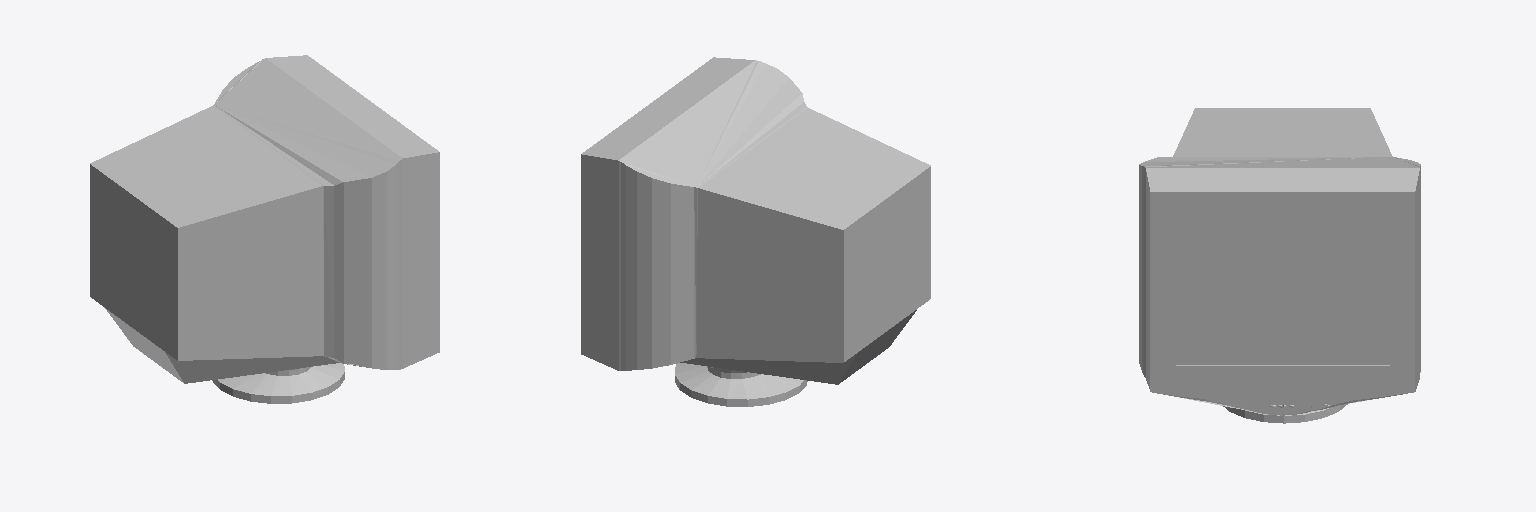
Rendered from monitor.obj.
3 views of the same model, side by side, from view 1: azimuth 30°, elevation 25°; view 2: azimuth 150°, elevation 25°; view 3: azimuth 270°, elevation 25° (orthographic).
Visible parts, largest first — view 1: polySurface148 monitor bedroom_m, monitor bedroom_m pCylinder55; view 2: polySurface148 monitor bedroom_m, monitor bedroom_m pCylinder55; view 3: polySurface148 monitor bedroom_m, monitor bedroom_m pCube255, monitor bedroom_m pCylinder55.
Boxes of the visible parts, box(x1,y1,x2,y2) form: polySurface148 monitor bedroom_m: box(90, 55, 439, 383); monitor bedroom_m pCylinder55: box(212, 363, 344, 403); polySurface148 monitor bedroom_m: box(581, 57, 930, 384); monitor bedroom_m pCylinder55: box(675, 363, 807, 406); polySurface148 monitor bedroom_m: box(1139, 108, 1420, 415); monitor bedroom_m pCube255: box(1176, 209, 1389, 364); monitor bedroom_m pCylinder55: box(1223, 404, 1347, 423).
Size of the model in its own units: 0.4428 by 0.4453 by 0.4459.